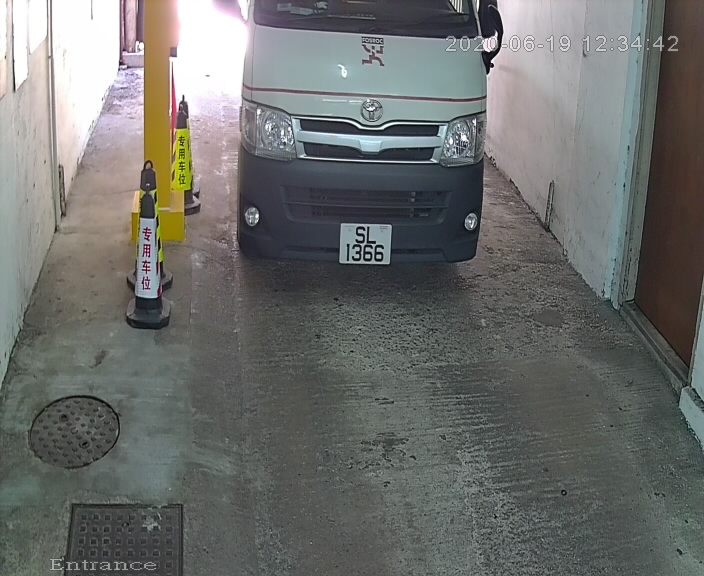privatecar: (212, 3, 522, 303)
